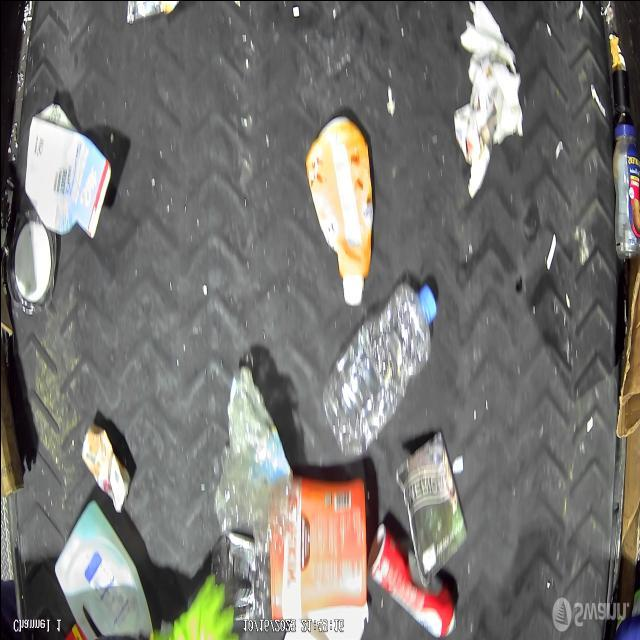can: (392, 427, 466, 589), (365, 520, 459, 640), (76, 419, 132, 515)
milk_jug: (50, 495, 152, 640)
non_white_jug: (268, 473, 368, 622), (304, 112, 374, 308)
plastic_bottle: (322, 277, 439, 464), (215, 364, 292, 564), (610, 121, 640, 262)
